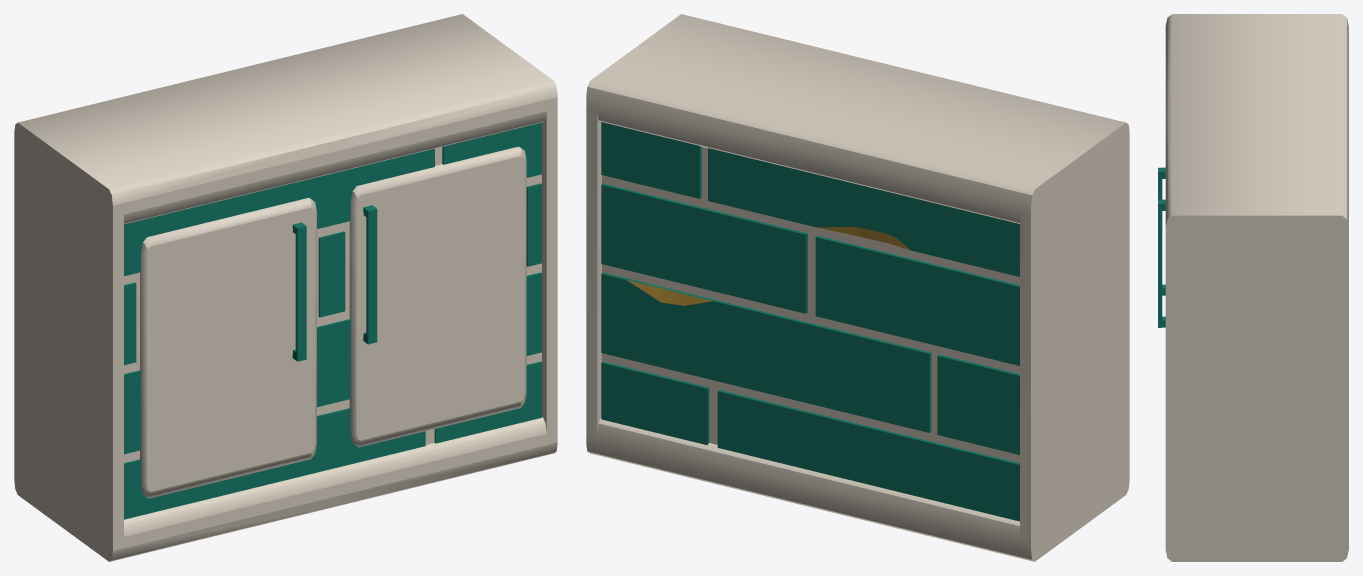
Rendered from upper_a.glb.
3 renders of one model, left to right at view 1: azimuth 30°, elevation 25°; view 2: azimuth 150°, elevation 25°; view 3: azimuth 270°, elevation 25°, orthographic. The views are drawn at different scales.
Visible parts, largest first — view 1: body; view 2: body; view 3: body.
Part boxes in pixels (box(x1,y1,x2,y2)): body: box(14, 14, 557, 561); body: box(586, 14, 1129, 561); body: box(1158, 14, 1348, 561).
Size of the model in its own units: 0.9 by 0.72 by 0.36.
